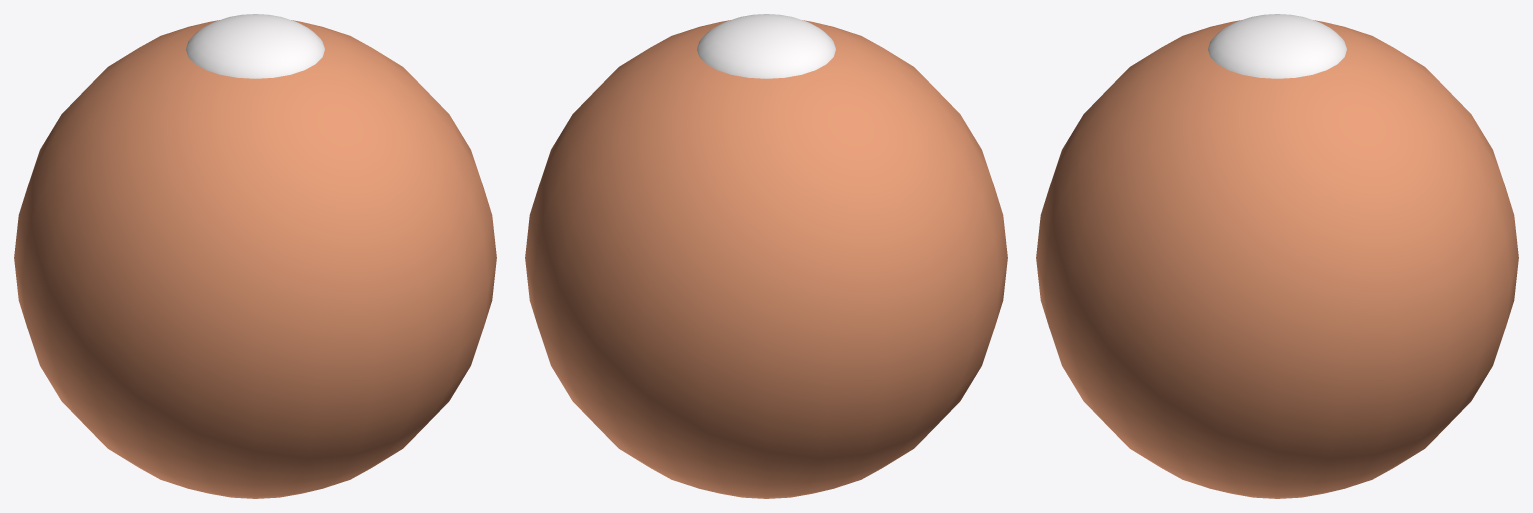
File: mars.glb
The picture shows the model from 3 angles, left to right: view 1: azimuth 30°, elevation 25°; view 2: azimuth 150°, elevation 25°; view 3: azimuth 270°, elevation 25°; orthographic projection.
Visible parts, largest first — view 1: crust_node, polar_node; view 2: crust_node, polar_node; view 3: crust_node, polar_node.
Part boxes in pixels (x1,y1,x2,y2): crust_node: (14,20,496,498); polar_node: (186,14,324,78); crust_node: (525,20,1007,498); polar_node: (697,14,835,78); crust_node: (1036,20,1518,498); polar_node: (1208,14,1346,78).
Size of the model in its own units: 1.5 by 1.54 by 1.5.
